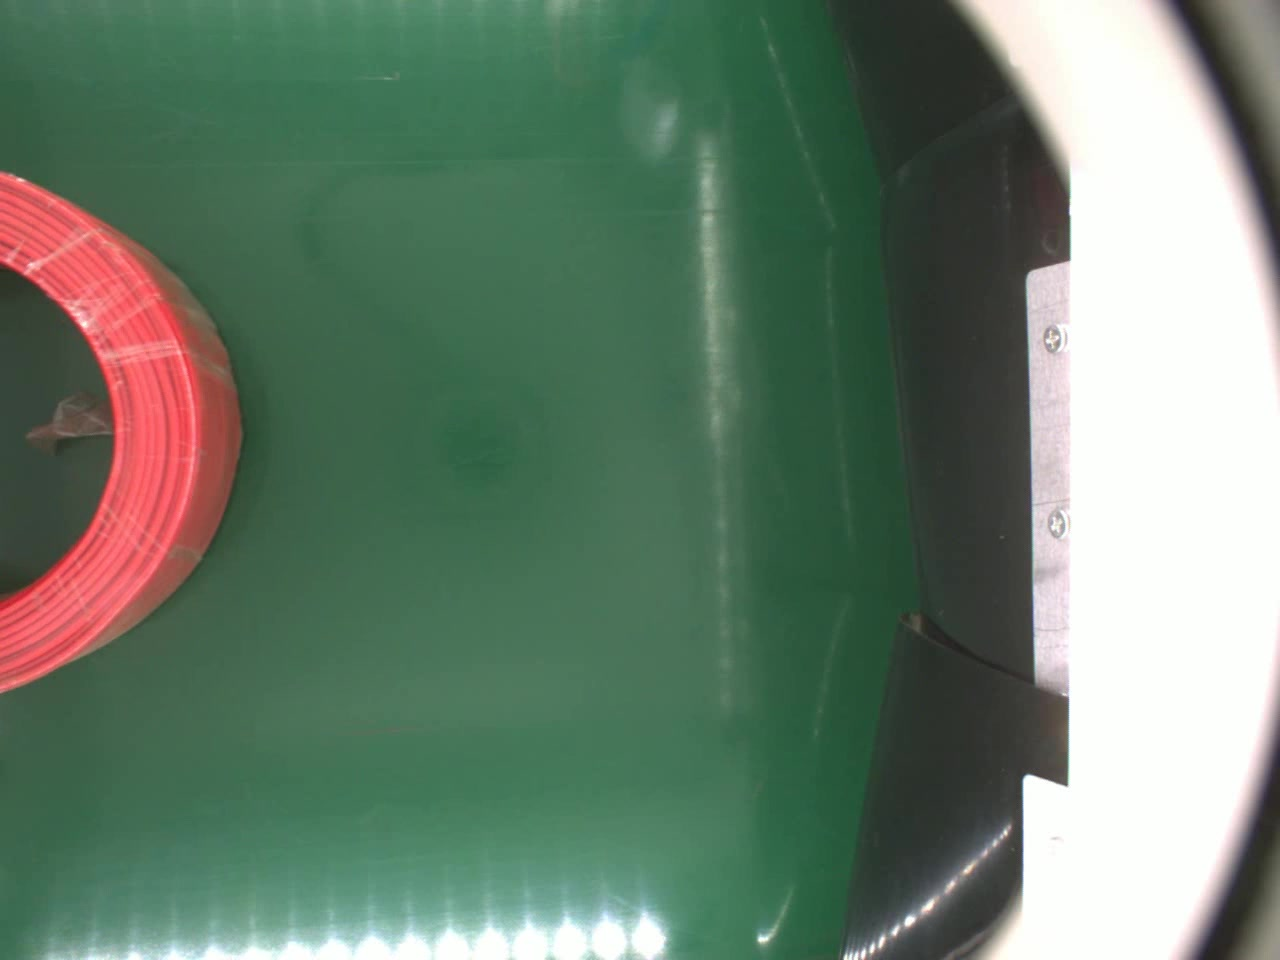red: (0, 172, 249, 703)
